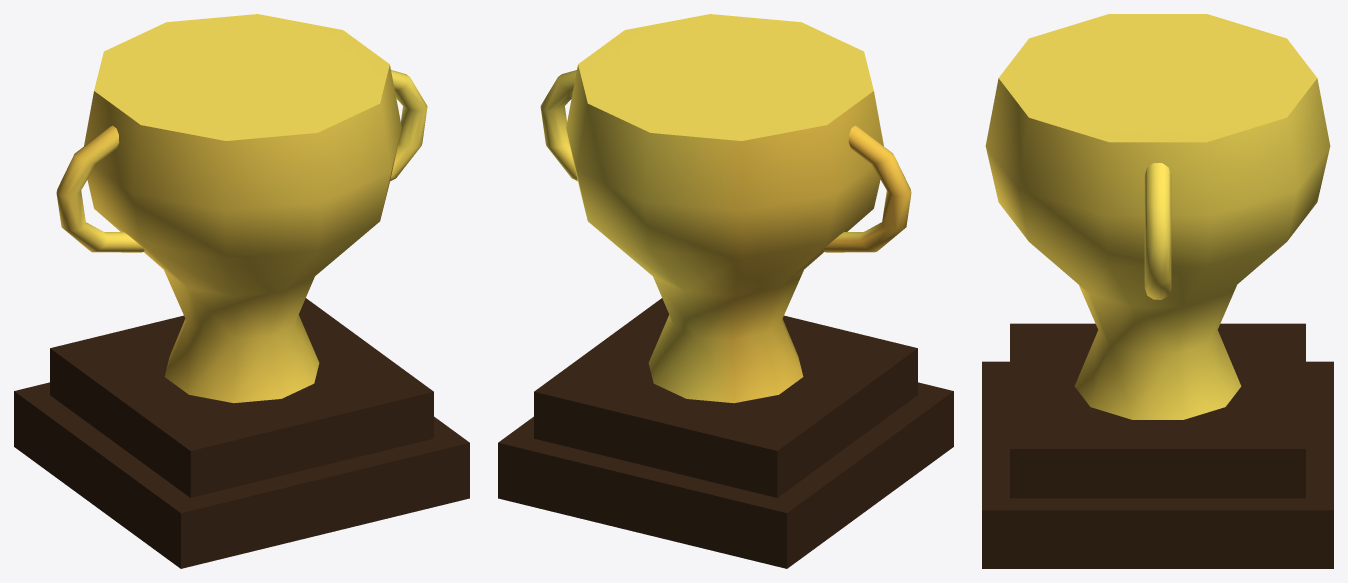
The model's file is trophy.glb.
3 renders of one model, left to right at view 1: azimuth 30°, elevation 25°; view 2: azimuth 150°, elevation 25°; view 3: azimuth 270°, elevation 25°, orthographic. The views are drawn at different scales.
Parts seen in each view (by area): view 1: trophy; view 2: trophy; view 3: trophy.
Part boxes in pixels (<box>): trophy: <box>14,14,469,568</box>; trophy: <box>498,14,953,568</box>; trophy: <box>982,14,1333,568</box>.
Bounding box in the file's own units: 13.16 × 13.53 × 10.36.
1 material, 1 textured.
